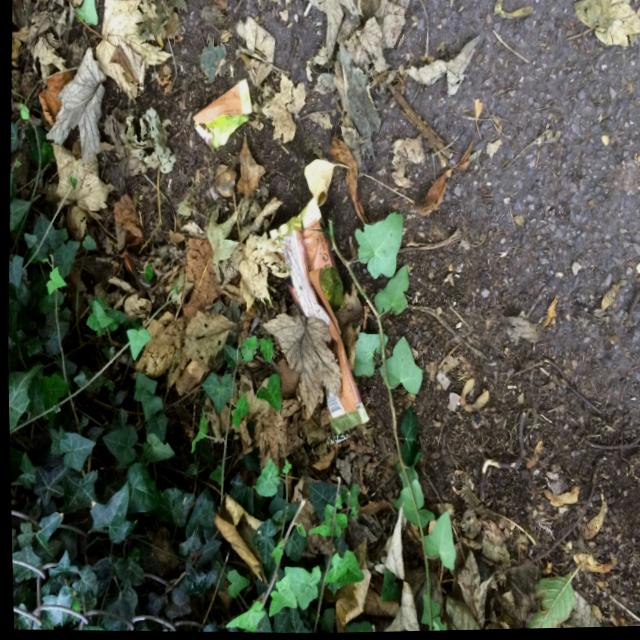Plastic: (255, 184, 389, 444), (185, 73, 258, 157)
